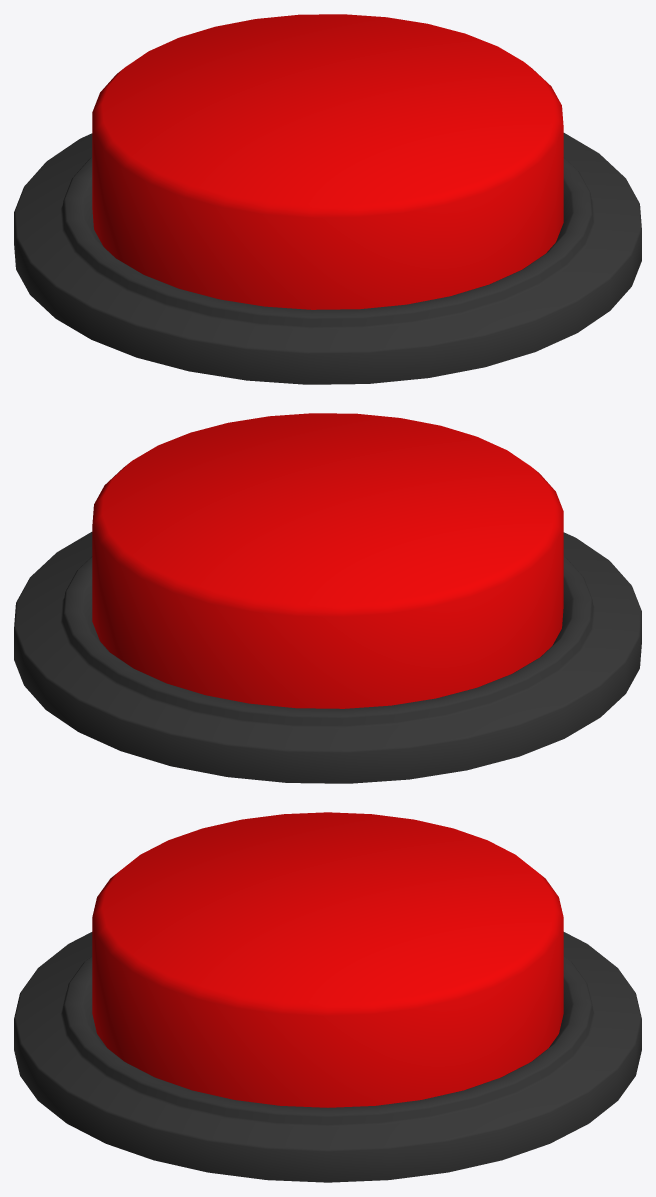
Rendered from button_round_flat.glb.
3 renders of one model, top to bottom at view 1: azimuth 30°, elevation 25°; view 2: azimuth 150°, elevation 25°; view 3: azimuth 270°, elevation 25°, orthographic.
Parts seen in each view (by area): view 1: Button_Cyrcle_1_Button, Button_Cyrcle_1_Frame; view 2: Button_Cyrcle_1_Button, Button_Cyrcle_1_Frame; view 3: Button_Cyrcle_1_Button, Button_Cyrcle_1_Frame.
Boxes of the visible parts, <box> form: Button_Cyrcle_1_Button: <box>92,14,563,309</box>; Button_Cyrcle_1_Frame: <box>14,133,641,384</box>; Button_Cyrcle_1_Button: <box>92,413,563,708</box>; Button_Cyrcle_1_Frame: <box>14,532,641,783</box>; Button_Cyrcle_1_Button: <box>92,812,563,1107</box>; Button_Cyrcle_1_Frame: <box>14,932,641,1182</box>.
Bounding box in the file's own units: 0.8 × 0.2 × 0.8.
Materials: 1 (1 with a texture image).
